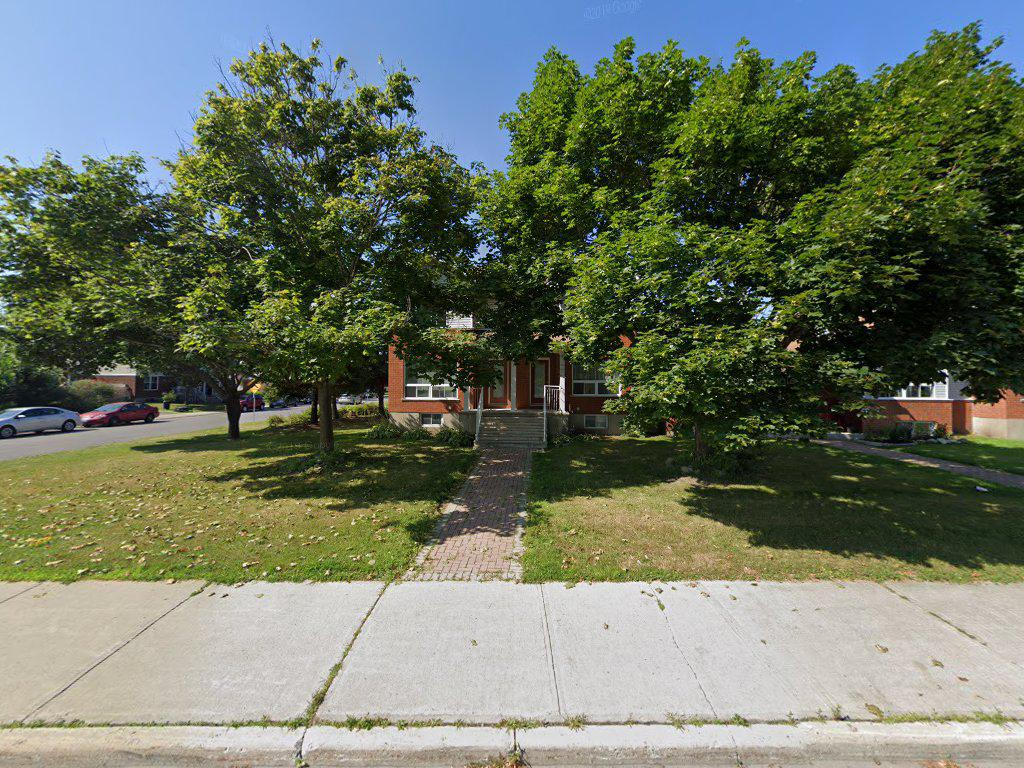trunk: (310, 367, 338, 468), (217, 368, 250, 444)
